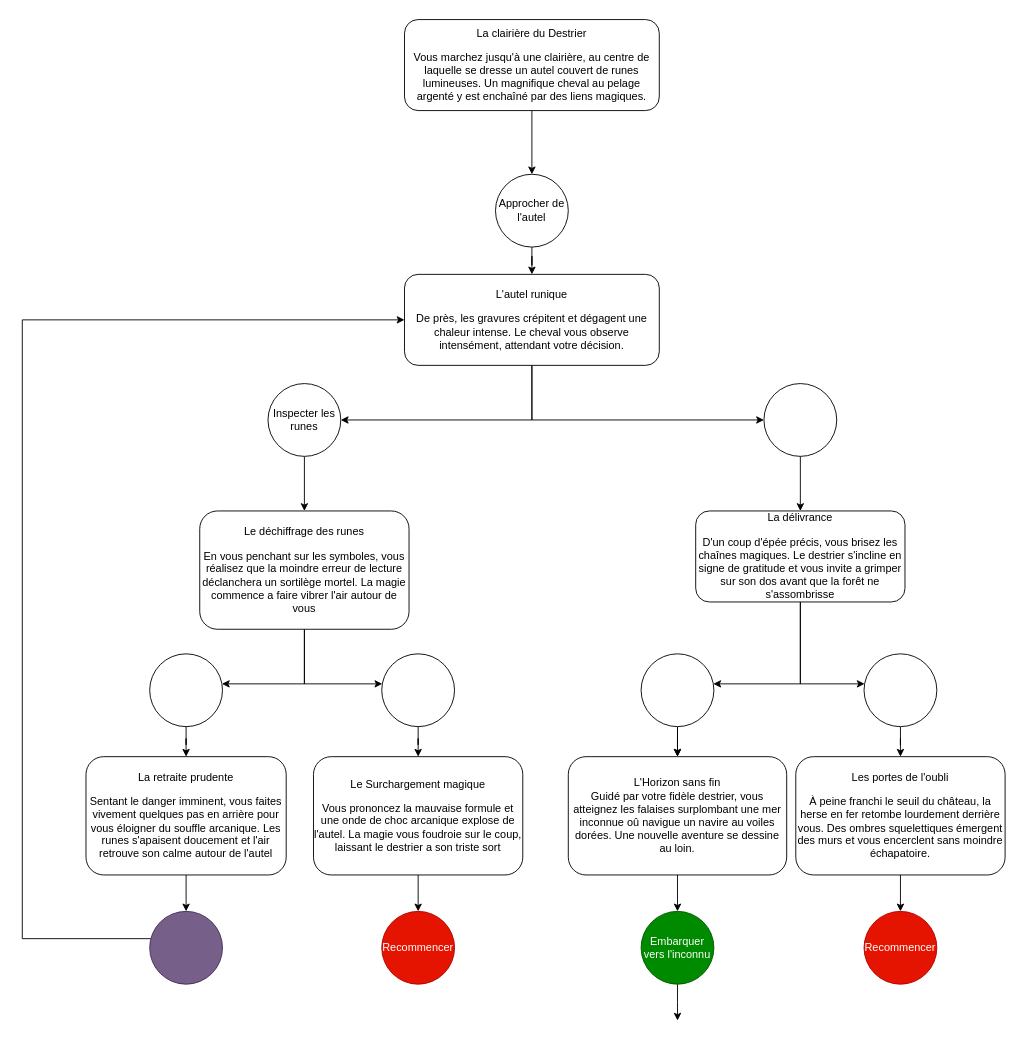
Some shapes in this 1021 by 1044 pixel diagram are drawn without their labels. Here are the shapes that lost their labels. From the top down, the centre of each, then its label:
the point at 800,419: Trancher les liens
the point at 185,690: Reculer
the point at 418,690: Prononcer l'incantation
the point at 677,690: Chevaucher vers les falaises
the point at 900,690: Galoper vers le chateau
the point at 185,947: Revenir a l'autel
